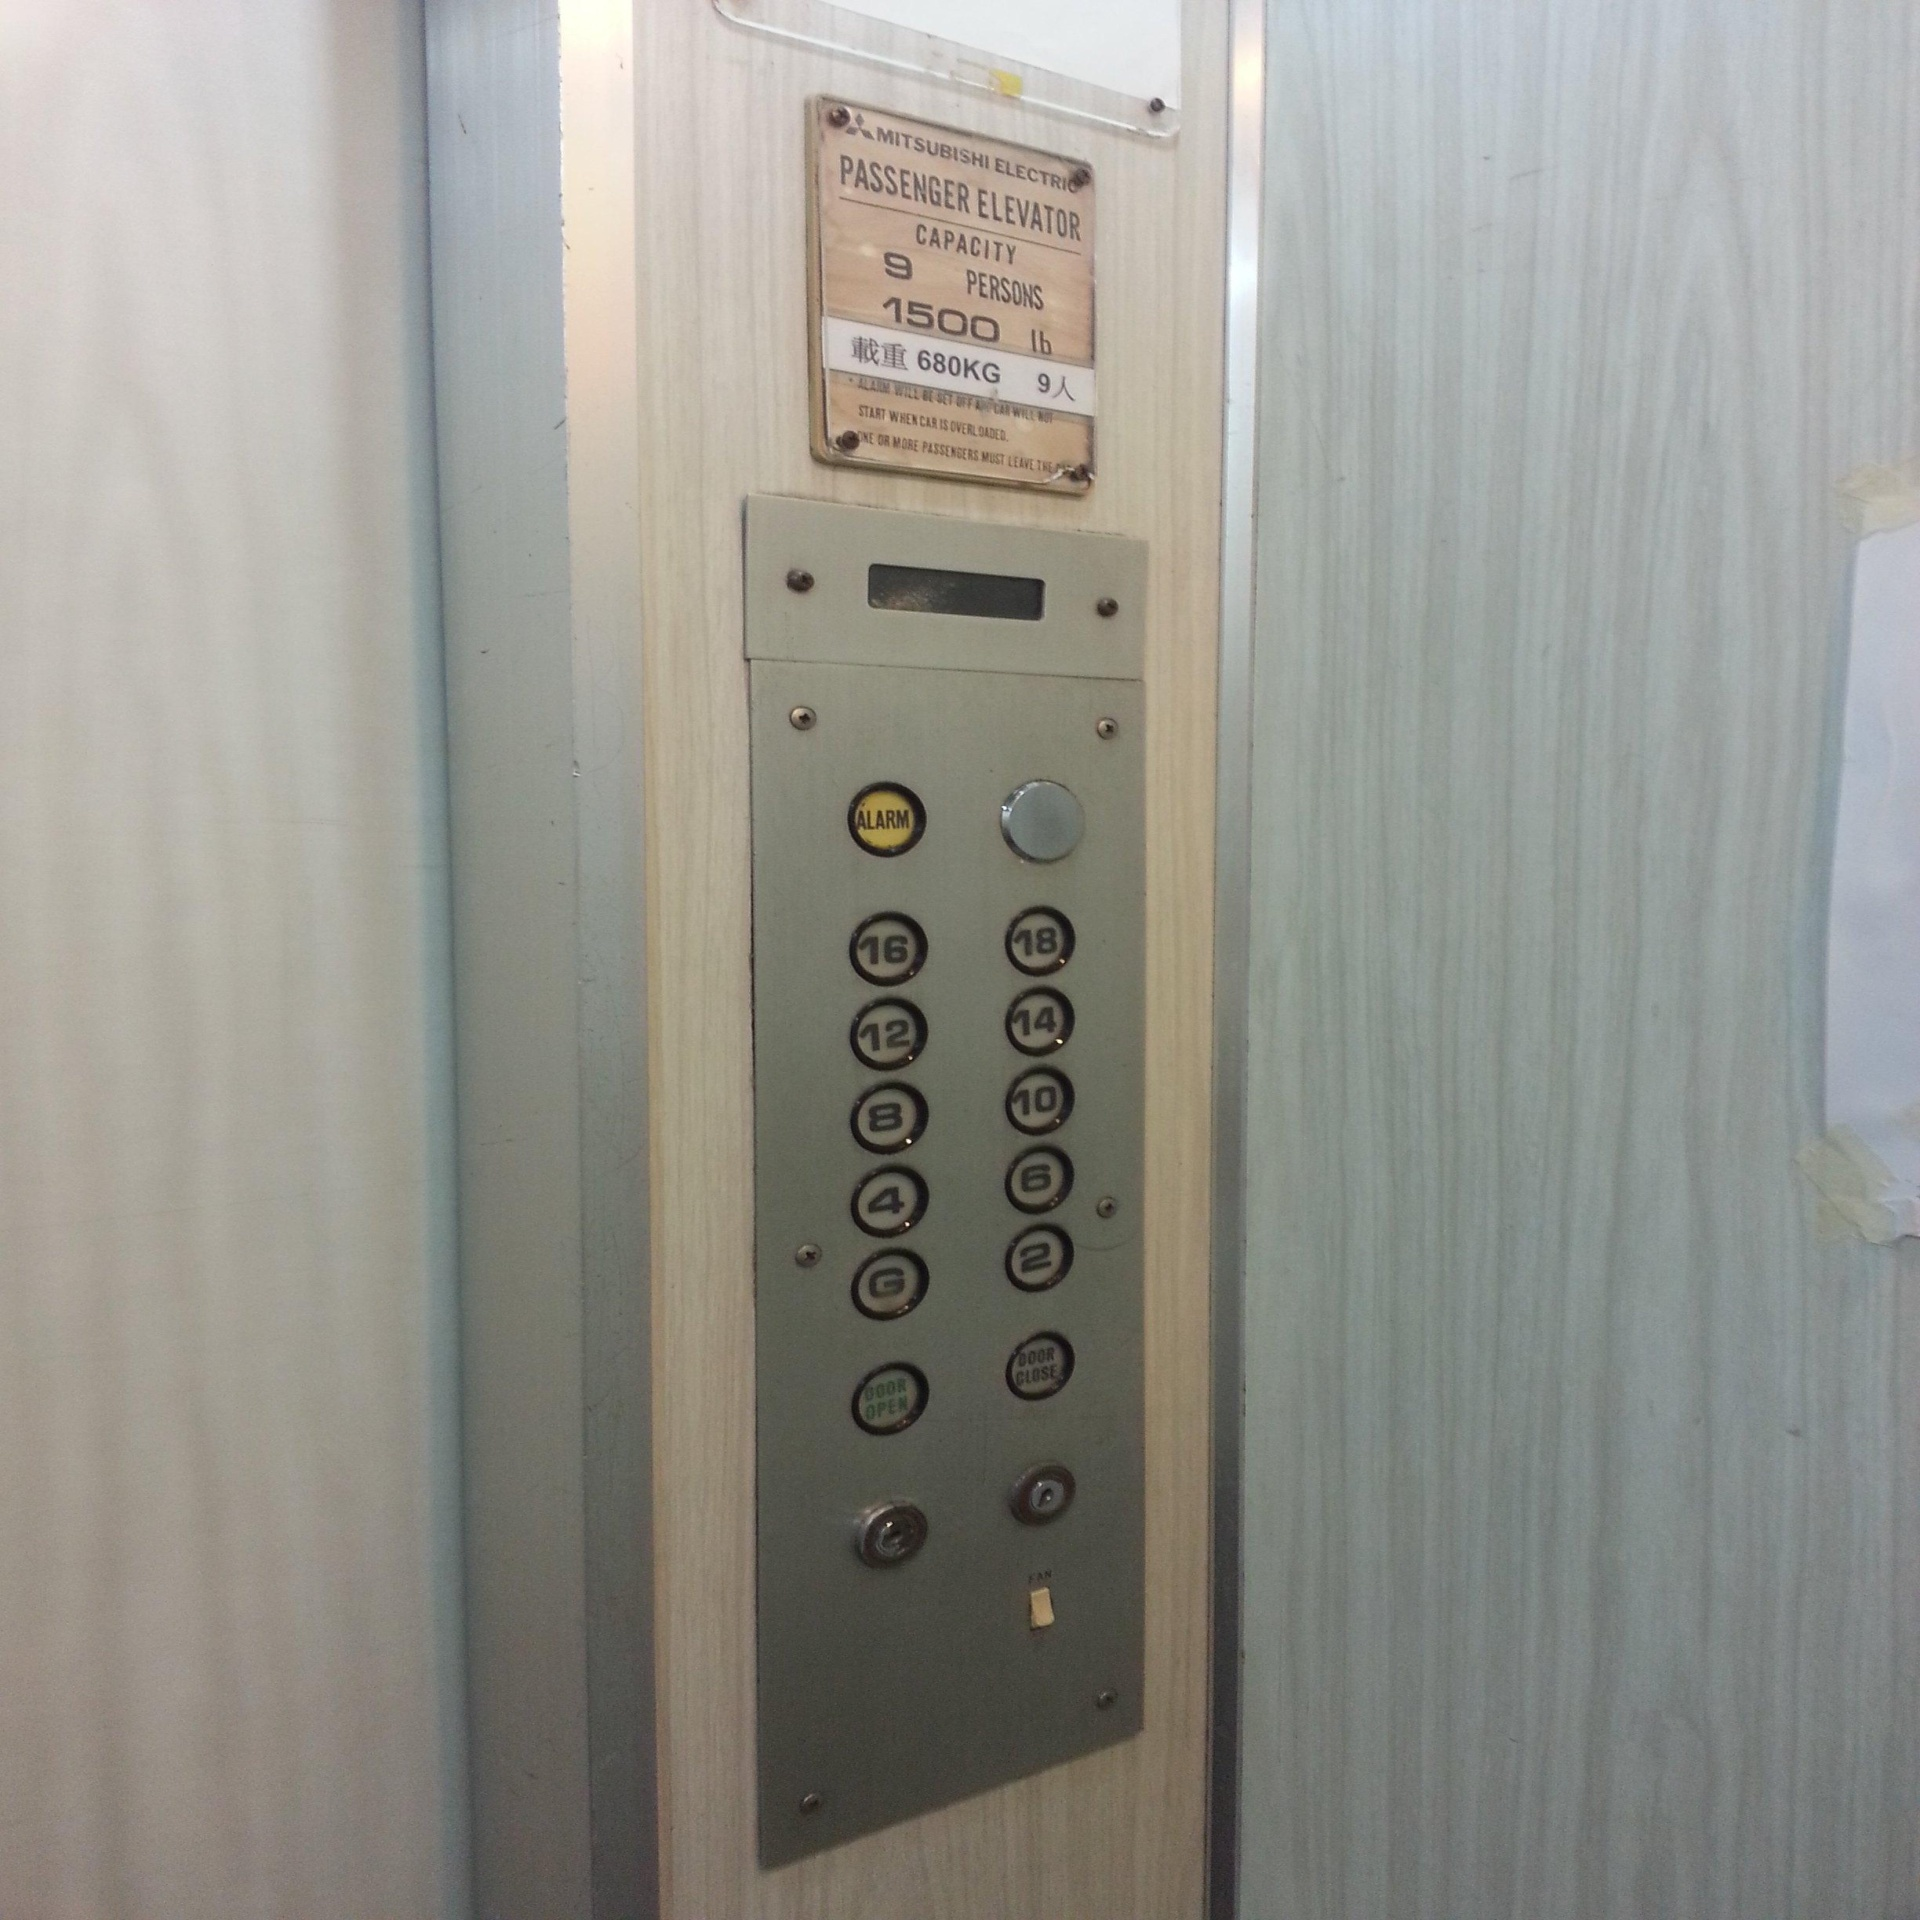10: (1002, 1062, 1076, 1139)
12: (847, 992, 932, 1074)
14: (1002, 985, 1076, 1060)
16: (847, 907, 932, 990)
18: (1002, 904, 1076, 979)
2: (1002, 1218, 1076, 1296)
4: (849, 1159, 934, 1241)
6: (1002, 1139, 1076, 1217)
8: (847, 1078, 932, 1159)
G: (849, 1241, 934, 1322)
empty: (995, 774, 1088, 867)
keyhole: (851, 1496, 934, 1572), (1007, 1458, 1076, 1528)
text_alarm: (846, 777, 928, 860)
text_door close: (1000, 1327, 1080, 1401)
text_door open: (849, 1357, 934, 1438)
